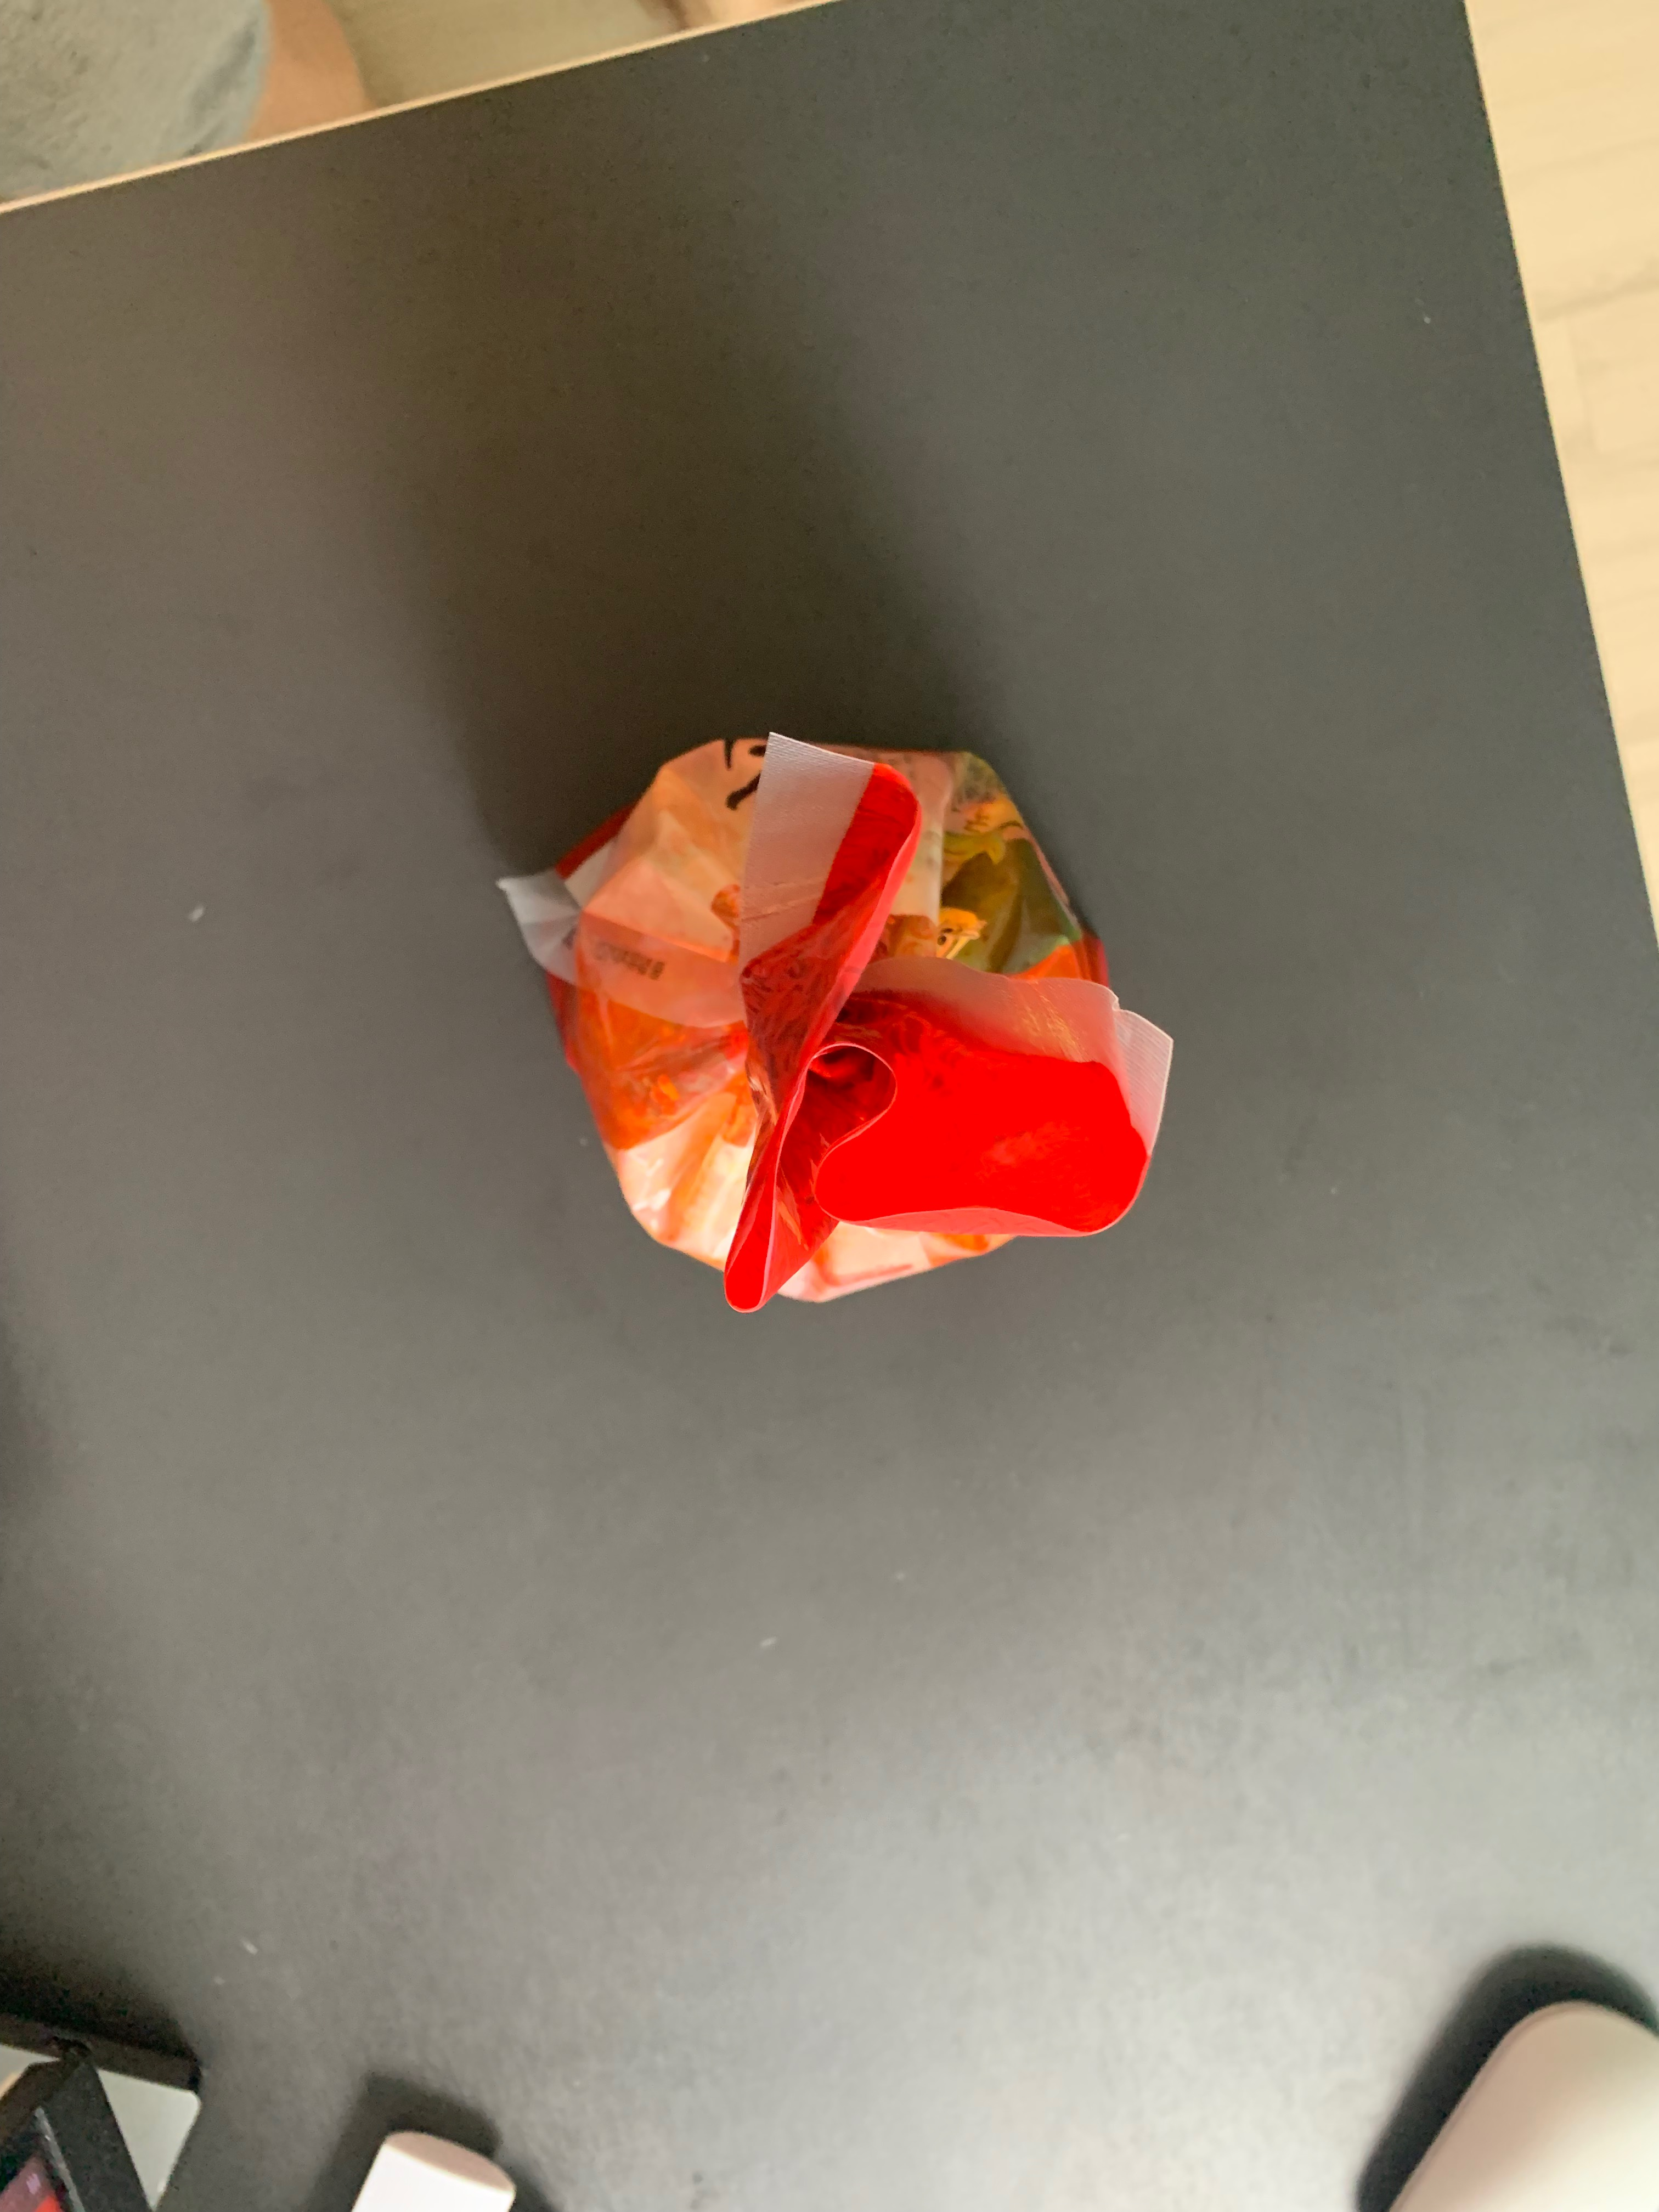kimchi: (547, 735, 1150, 1315)
